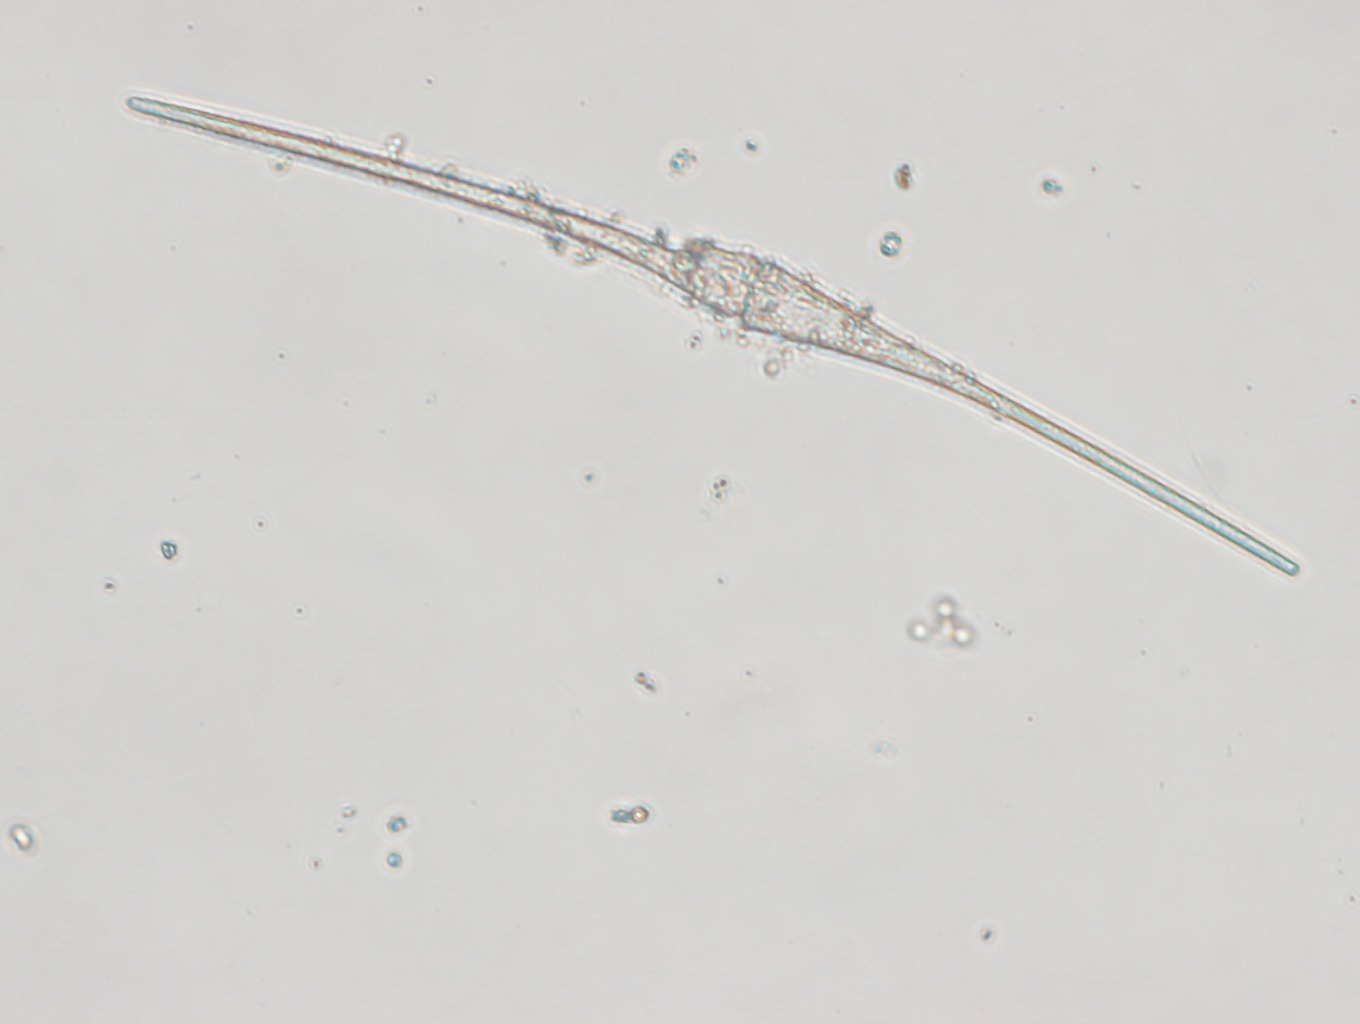ceratium fusus: (118, 90, 1304, 580)
